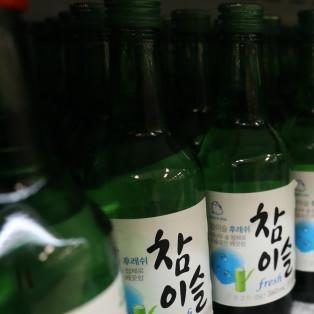soju: (5, 6, 313, 310)
